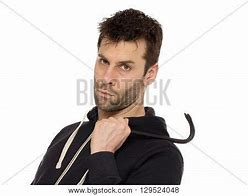crowbar: (88, 111, 197, 145)
